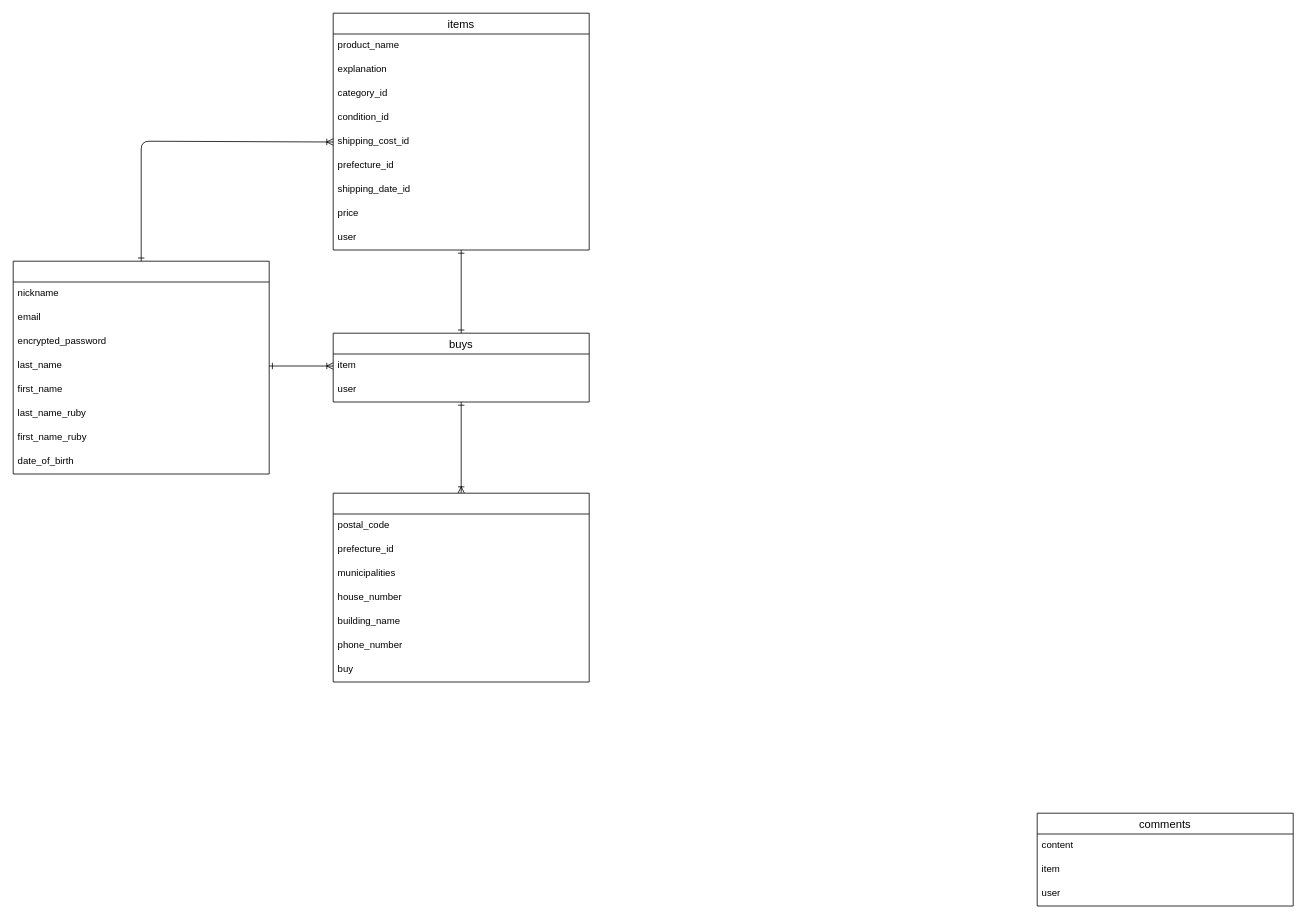
Some shapes in this 1306 by 919 pixel diagram are drawn without their labels. The shapes that lost their labels are listed below. From the top down, each one's box as (x1, y1, x2, y2) in pixels, then its label:
(12, 260, 269, 474): users
(332, 492, 589, 682): shippings
